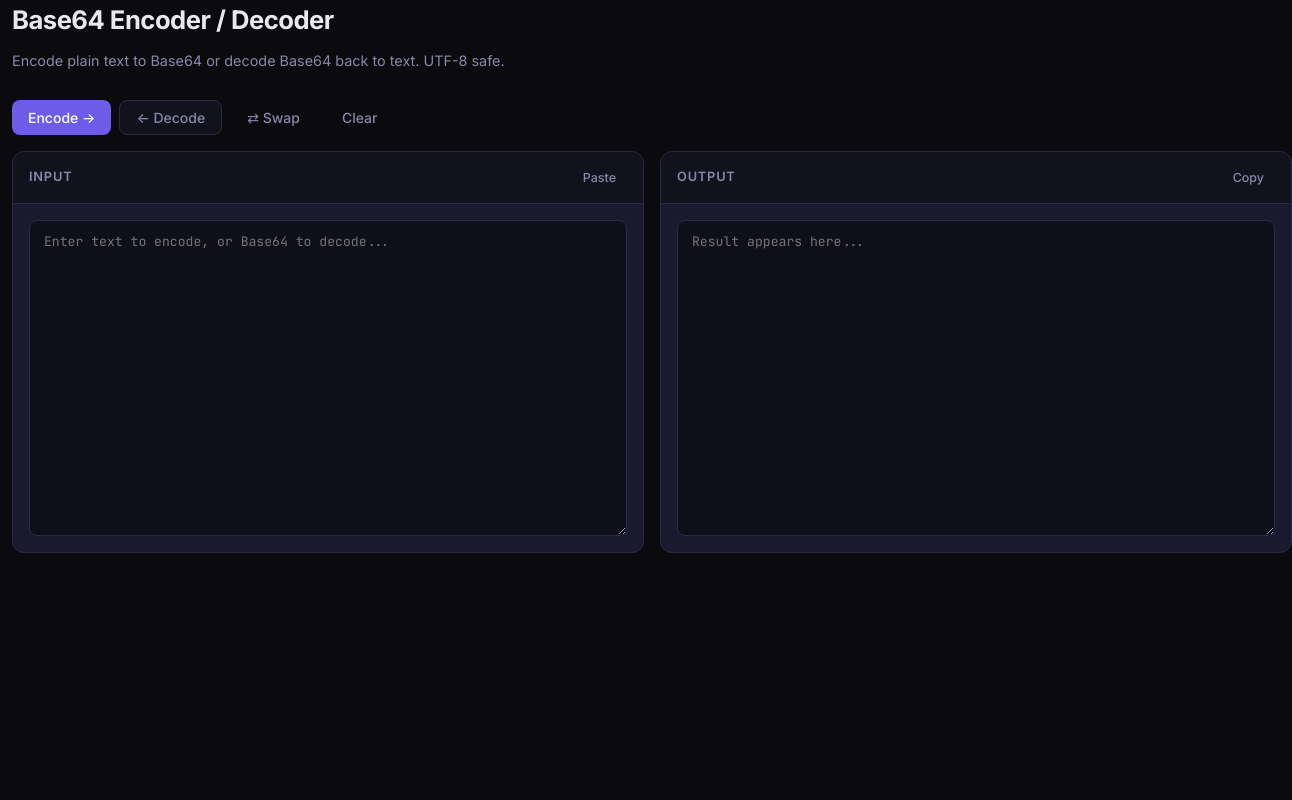
Test: Base64Tool › encodes ASCII text to Base64
Type "Hello, World!" into the text box with placeholder "Enter text to encode, or Base64 to decode..." at (328, 378), box [29, 220, 627, 536]
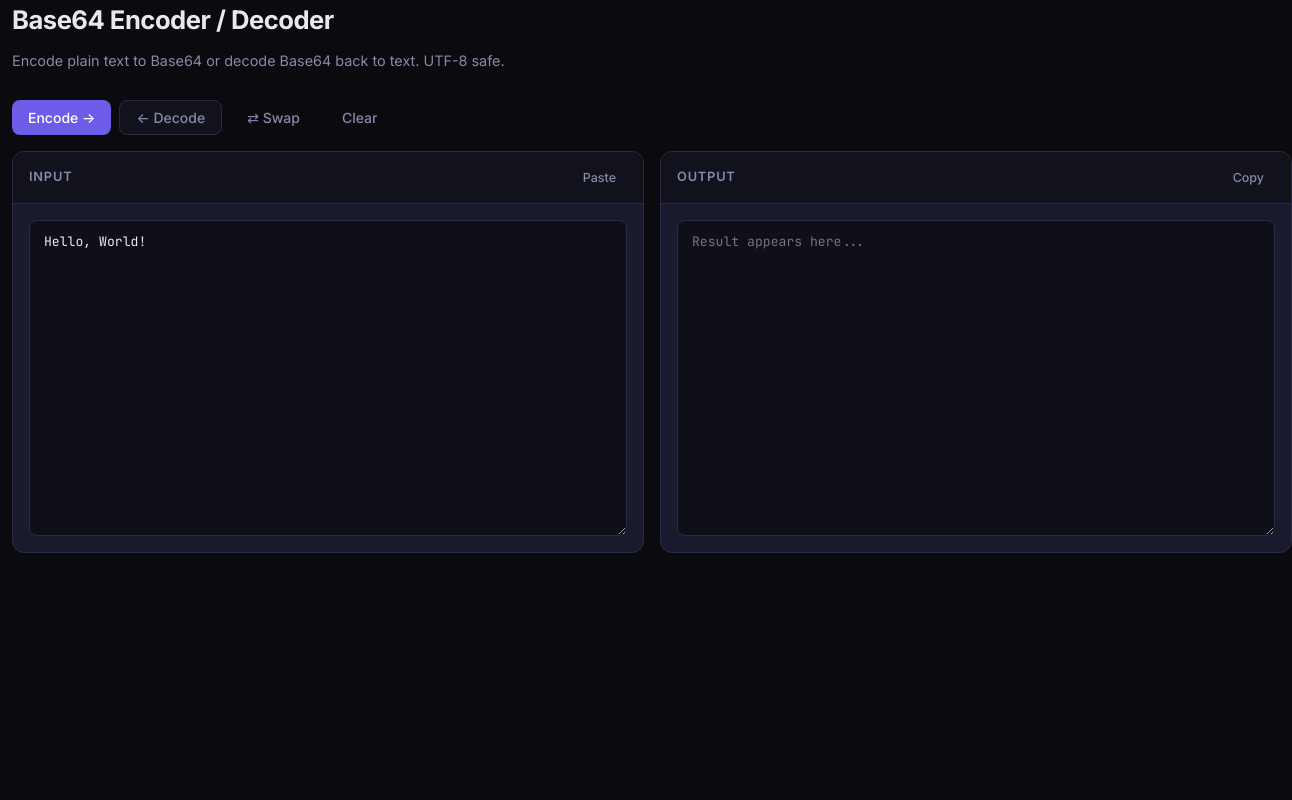
Click the button "Encode →" at (62, 118), box [12, 100, 111, 135]
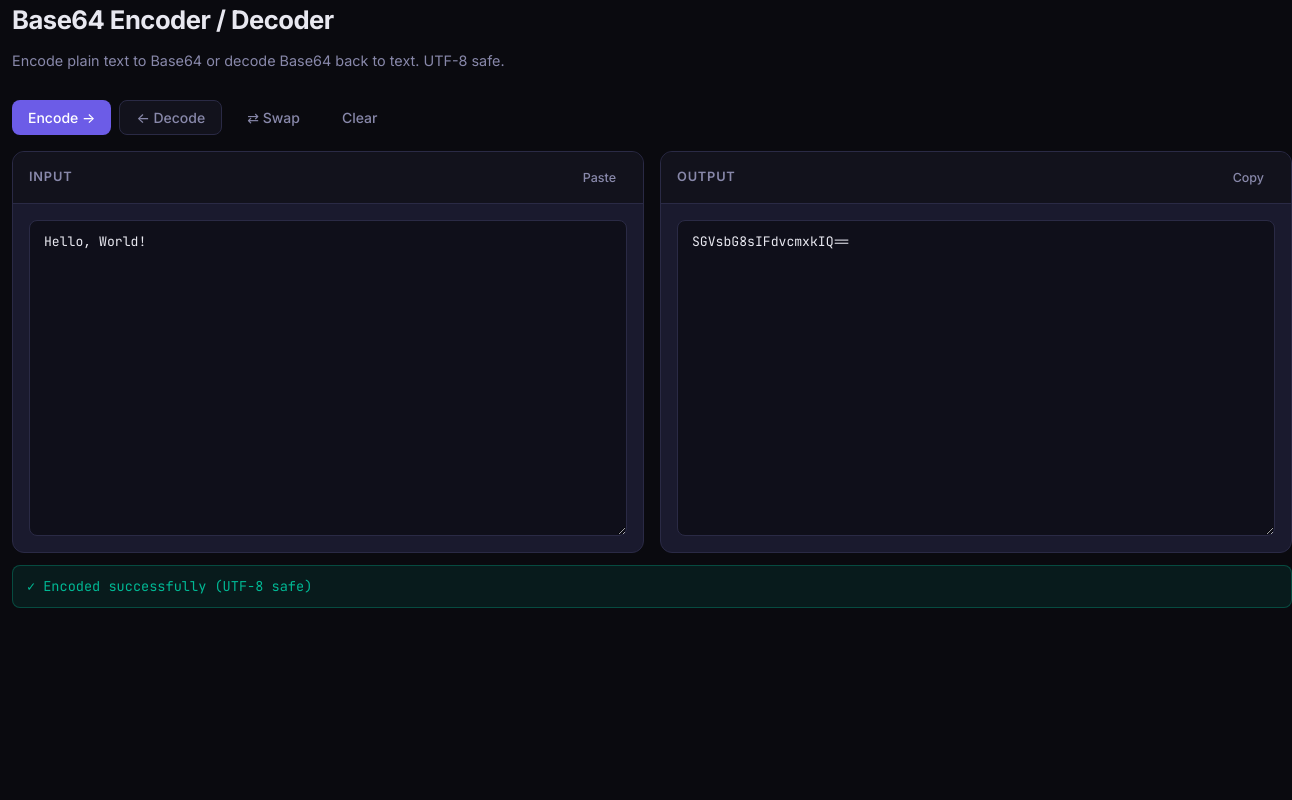
Now the text box below "Output" holds "SGVsbG8sIFdvcmxkIQ==", box [677, 220, 1275, 536]
